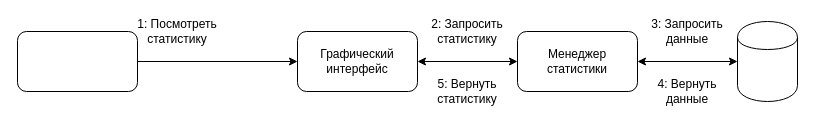
The diagram is 815 pixels wide and 123 high, and some of its shapes have lost their labels. The shapes that lost their labels are listed below. From the top down, each one's centre as x and y in pixels, then its label:
At (x=77, y=61): "Пользователь".
At (x=767, y=61): "База данных".
